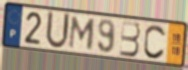2: (24, 10, 43, 46)
9: (97, 18, 117, 55)
B: (118, 19, 142, 58)
C: (143, 23, 168, 61)
M: (67, 15, 97, 51)
U: (44, 9, 71, 51)
